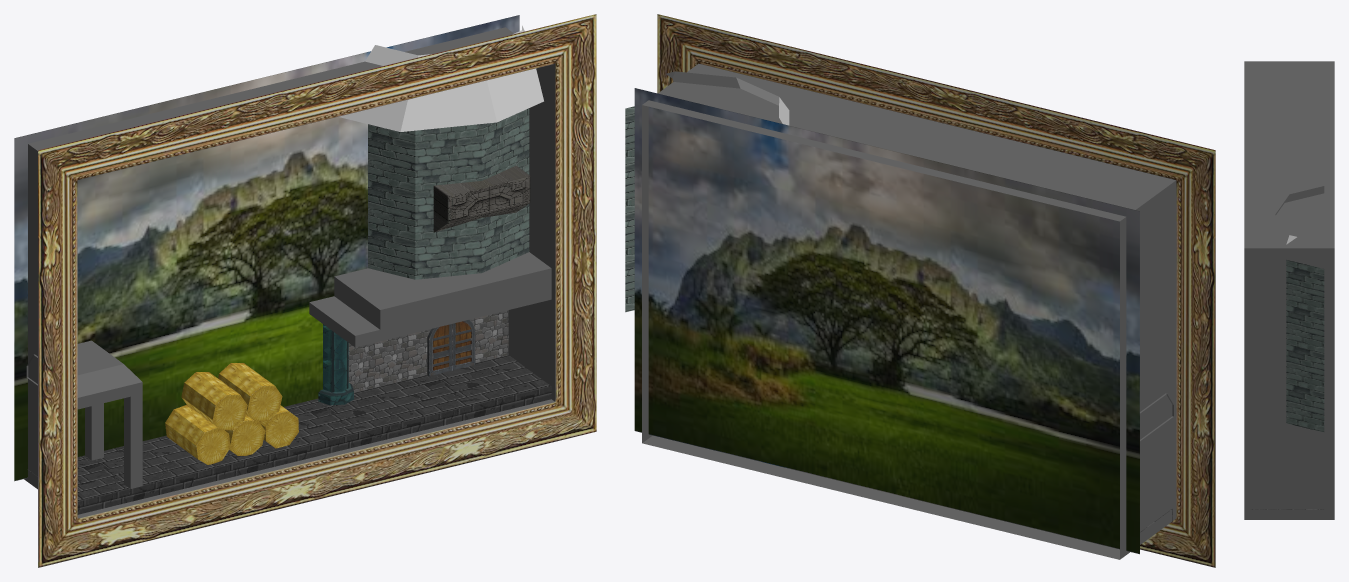
Rendered from First_Room.FBX.
3 renders of one model, left to right at view 1: azimuth 30°, elevation 25°; view 2: azimuth 150°, elevation 25°; view 3: azimuth 270°, elevation 25°, orthographic. The views are drawn at different scales.
Parts seen in each view (by area): view 1: polySurface321, First_Room, polySurface370, polySurface373, polySurface324, polySurface369, hooi, polySurface374, polySurface375, polySurface359, polySurface372, polySurface442 (+3 smaller); view 2: polySurface321, polySurface324, First_Room, polySurface373, polySurface374; view 3: polySurface324, polySurface373, polySurface374.
Boxes of the visible parts, x1=… form: polySurface321: x1=14, y1=15, x2=519, y2=481; First_Room: x1=38, y1=14, x2=596, y2=567; polySurface370: x1=27, y1=355, x2=551, y2=514; polySurface373: x1=368, y1=108, x2=529, y2=279; polySurface324: x1=24, y1=27, x2=555, y2=518; polySurface369: x1=309, y1=252, x2=551, y2=347; hooi: x1=165, y1=363, x2=298, y2=464; polySurface374: x1=338, y1=25, x2=543, y2=131; polySurface375: x1=348, y1=310, x2=508, y2=392; polySurface359: x1=77, y1=352, x2=142, y2=488; polySurface372: x1=433, y1=165, x2=530, y2=232; polySurface442: x1=318, y1=324, x2=353, y2=405; polySurface321: x1=634, y1=88, x2=1139, y2=554; polySurface324: x1=642, y1=63, x2=1176, y2=559; First_Room: x1=657, y1=14, x2=1215, y2=567; polySurface373: x1=625, y1=106, x2=634, y2=312; polySurface374: x1=666, y1=71, x2=789, y2=125; polySurface324: x1=1244, y1=61, x2=1334, y2=519; polySurface373: x1=1286, y1=260, x2=1324, y2=432; polySurface374: x1=1268, y1=186, x2=1324, y2=247.
Bounding box in the file's own units: 49.14 × 35.12 × 8.6.
